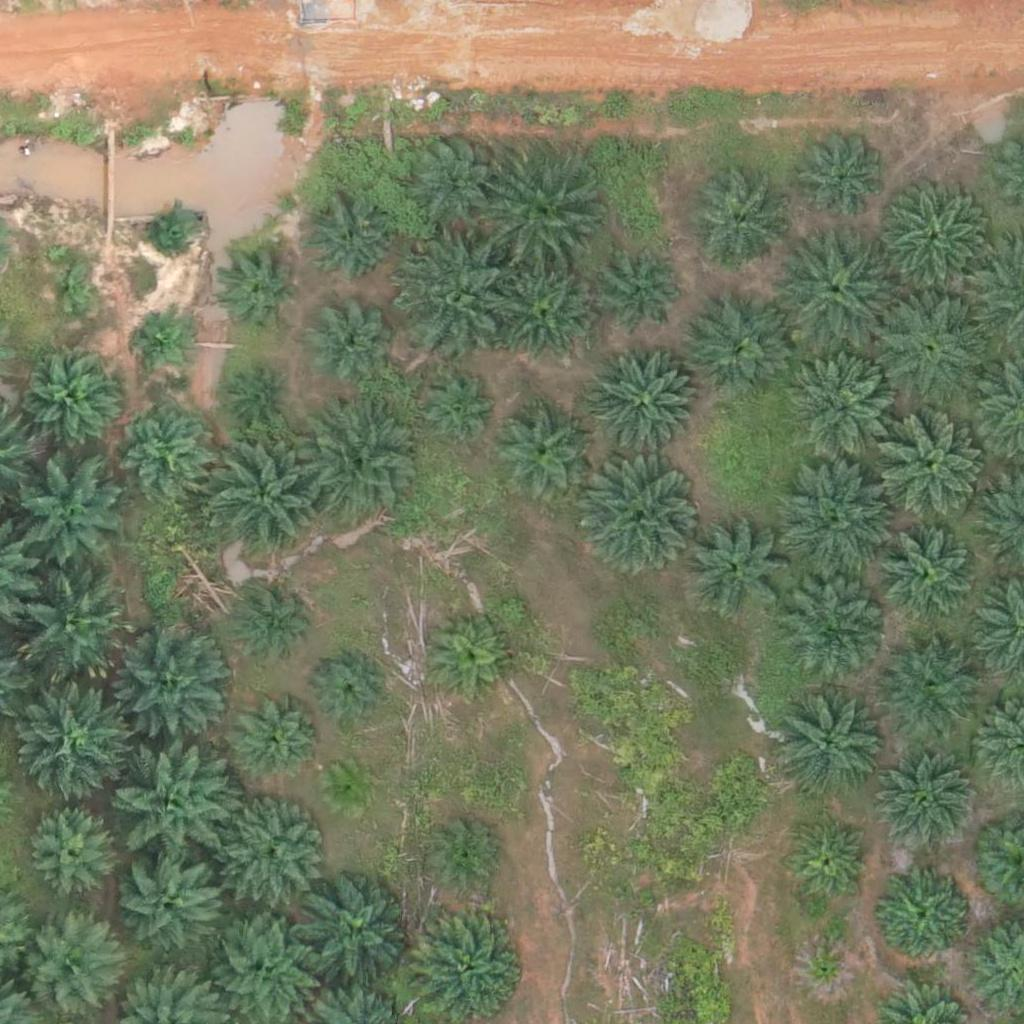Kelapa_Sawit: (776, 690, 889, 804), (579, 462, 692, 576), (305, 411, 418, 525), (873, 412, 986, 525), (873, 183, 986, 296), (787, 353, 900, 466), (776, 576, 889, 689), (210, 434, 323, 547), (113, 750, 226, 863), (408, 910, 521, 1023), (298, 874, 411, 987), (9, 458, 122, 571), (22, 691, 135, 804), (872, 289, 984, 403), (111, 624, 223, 738), (785, 232, 897, 345), (782, 468, 894, 581), (590, 348, 702, 461), (487, 161, 599, 274), (397, 240, 509, 353), (214, 800, 326, 913), (20, 575, 132, 688), (875, 751, 975, 852), (791, 126, 891, 227), (685, 514, 785, 615), (686, 299, 786, 400), (493, 259, 593, 360), (399, 126, 499, 227), (119, 850, 219, 951), (27, 921, 127, 1022), (883, 637, 983, 737), (878, 525, 978, 625), (690, 176, 790, 276), (494, 401, 594, 501), (25, 350, 125, 450), (874, 871, 962, 959), (29, 809, 117, 897), (305, 197, 392, 286), (782, 819, 869, 907), (599, 250, 686, 338), (412, 367, 499, 455), (305, 296, 392, 384), (121, 400, 208, 488), (215, 244, 302, 332), (425, 617, 512, 705), (242, 703, 317, 779), (309, 655, 384, 731), (233, 581, 308, 656), (426, 817, 501, 892), (137, 313, 187, 364), (320, 763, 370, 813), (144, 203, 194, 253), (235, 372, 285, 422), (47, 266, 97, 316), (803, 952, 840, 990)
